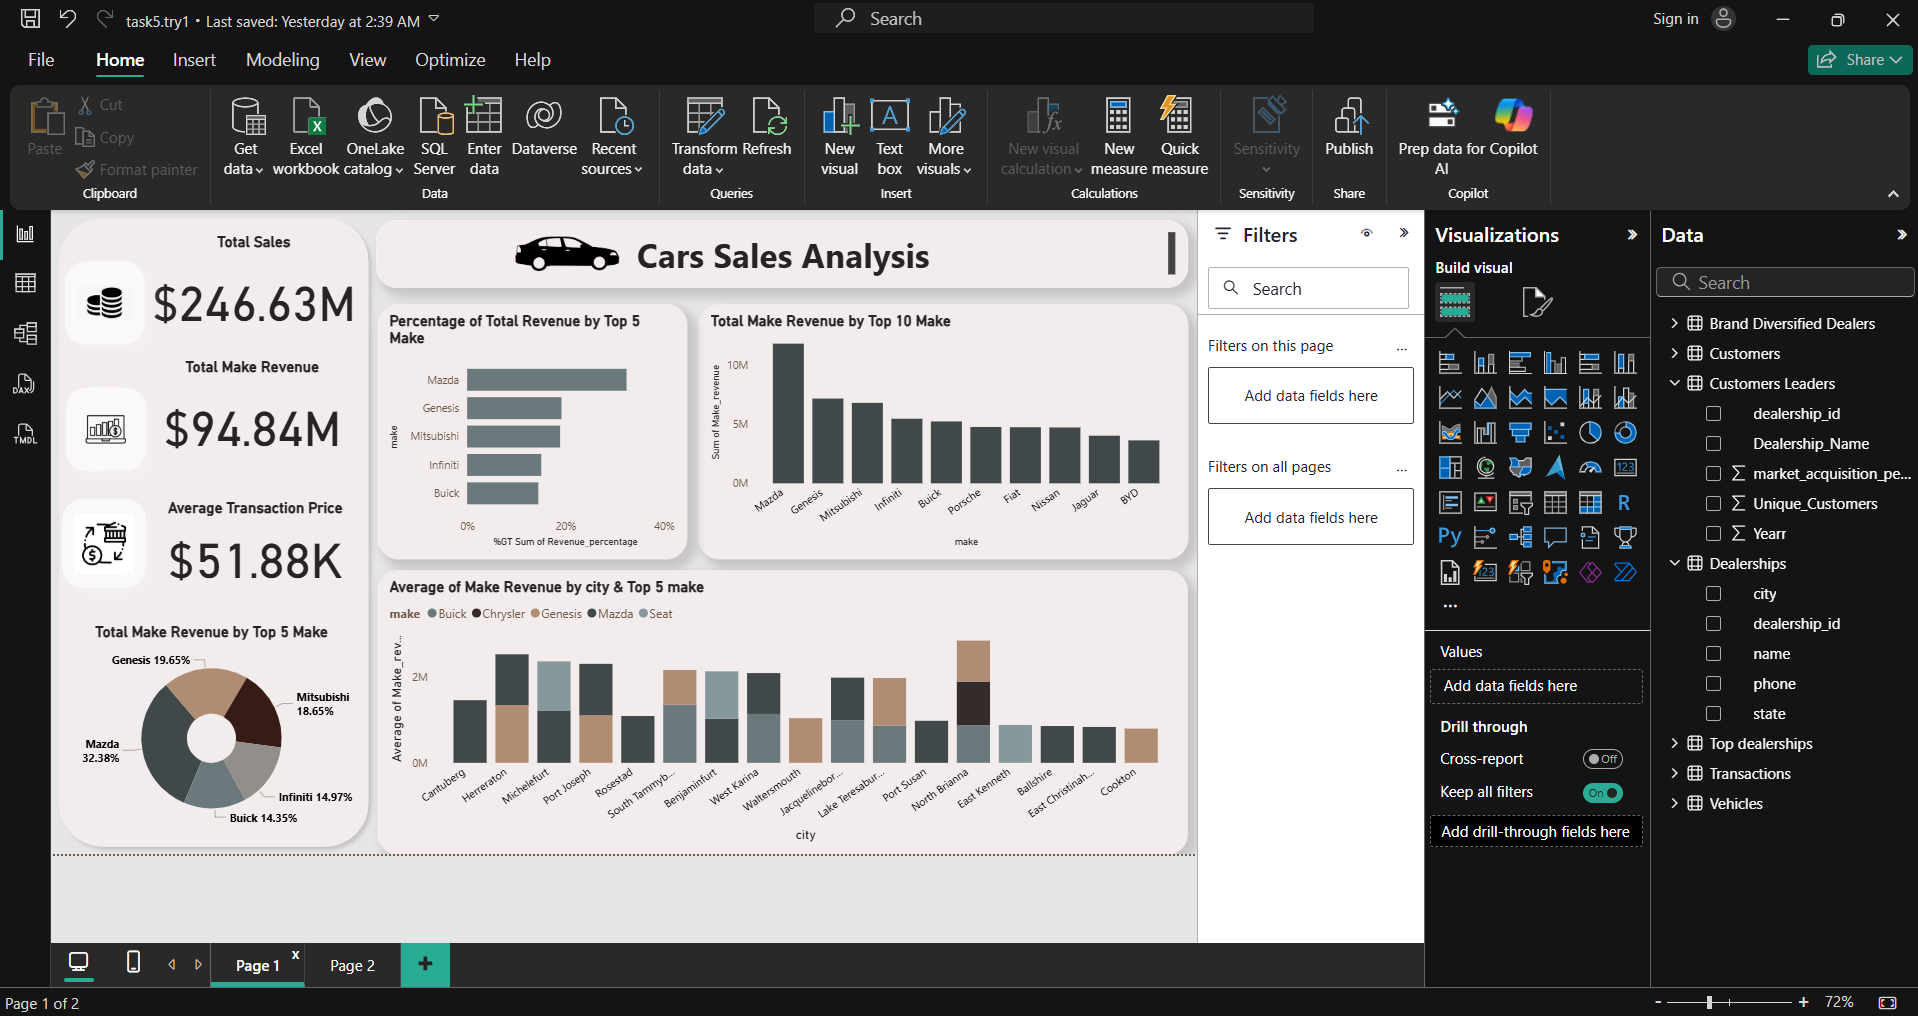

This screenshot's page, from the dashboard's own definition file:
{"tool":"powerbi","page":{"name":"Page 1","canvas":[1280,720],"ordinal":0},"visuals":[{"type":"shape","box":[0,0,363.6,720.1],"z":0},{"type":"card","title":"Total Sales","fields":{"Values":["Sum(Top dealerships.Total_sales)"]},"box":[106.9,24.6,238.4,127.2],"z":1000},{"type":"card","title":"Total Make Revenue","fields":{"Values":["Sum(Brand Diversified Dealers.Make_revenue)"]},"box":[119.9,164.7,209.5,127.2],"z":2000},{"type":"card","title":"Average Transaction Price","fields":{"Values":["Avg(Transactions.price)"]},"box":[106.9,322.2,241.3,106.9],"z":3000},{"type":"donutChart","title":"Total Make Revenue by Top 5 Make","fields":{"Category":["Brand Diversified Dealers.make"],"Y":["Sum(Brand Diversified Dealers.Make_revenue)"]},"box":[14.5,461,330.9,239.9],"z":4000},{"type":"image","box":[15.9,57.8,89.6,93.9],"z":5000},{"type":"image","box":[17.3,198,89.6,93.9],"z":6000},{"type":"image","box":[13,322.2,93.9,99.7],"z":7000},{"type":"textbox","box":[363.6,11.3,906.8,76.4],"z":8000},{"type":"image","box":[513.5,21.2,125.9,56.6],"z":9000},{"type":"clusteredColumnChart","title":"Total Make Revenue by Top 10 Make","fields":{"Y":["Sum(Brand Diversified Dealers.Make_revenue)"],"Category":["Brand Diversified Dealers.make"]},"box":[722.9,104.7,547.5,285.8],"z":10000},{"type":"barChart","title":"Percentage of Total Revenue by Top 5 Make","fields":{"Category":["Brand Diversified Dealers.make"],"Y":["Sum(Brand Diversified Dealers.Revenue_percentage)"]},"box":[365,104.7,346.6,285.8],"z":11000},{"type":"lineStackedColumnComboChart","title":"Average of Make Revenue by city & Top 5 make","fields":{"Y":["Avg(Brand Diversified Dealers.Make_revenue)"],"Series":["Brand Diversified Dealers.make"],"Category":["Dealerships.city"]},"box":[365,401.8,905.4,318.3],"z":12000}]}

Visuals, with their boxes on the page's 1280x720 design canvas (x1, y1, x2, y2). These are canvas units, not pixel positions in the 1918x1016 screenshot, which may show the page scaled, cropped or inside an application window:
shape: select_region(0, 0, 364, 720)
"Total Sales" card: select_region(107, 25, 345, 152)
"Total Make Revenue" card: select_region(120, 165, 329, 292)
"Average Transaction Price" card: select_region(107, 322, 348, 429)
"Total Make Revenue by Top 5 Make" donutChart: select_region(14, 461, 345, 701)
image: select_region(16, 58, 106, 152)
image: select_region(17, 198, 107, 292)
image: select_region(13, 322, 107, 422)
textbox: select_region(364, 11, 1270, 88)
image: select_region(514, 21, 639, 78)
"Total Make Revenue by Top 10 Make" clusteredColumnChart: select_region(723, 105, 1270, 390)
"Percentage of Total Revenue by Top 5 Make" barChart: select_region(365, 105, 712, 390)
"Average of Make Revenue by city & Top 5 make" lineStackedColumnComboChart: select_region(365, 402, 1270, 720)
